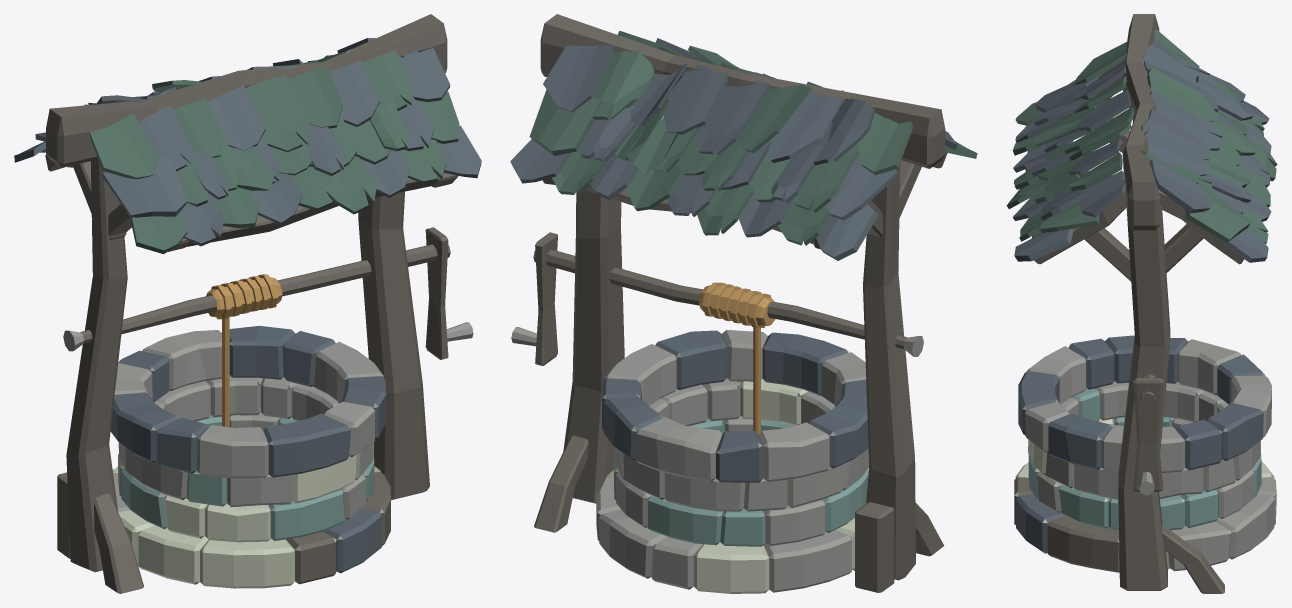
File: studnia.fbx
3 renders of one model, left to right at view 1: azimuth 30°, elevation 25°; view 2: azimuth 150°, elevation 25°; view 3: azimuth 270°, elevation 25°, orthographic. The views are drawn at different scales.
Parts seen in each view (by area): view 1: F_studnia_01; view 2: F_studnia_01; view 3: F_studnia_01.
Part boxes in pixels (left/top/right/bottom): F_studnia_01: left=14, top=14, right=481, bottom=593; F_studnia_01: left=510, top=14, right=977, bottom=593; F_studnia_01: left=1006, top=14, right=1277, bottom=593.
Bounding box in the file's own units: 2276 × 2424 × 1403.
Materials: 1 (1 with a texture image).
